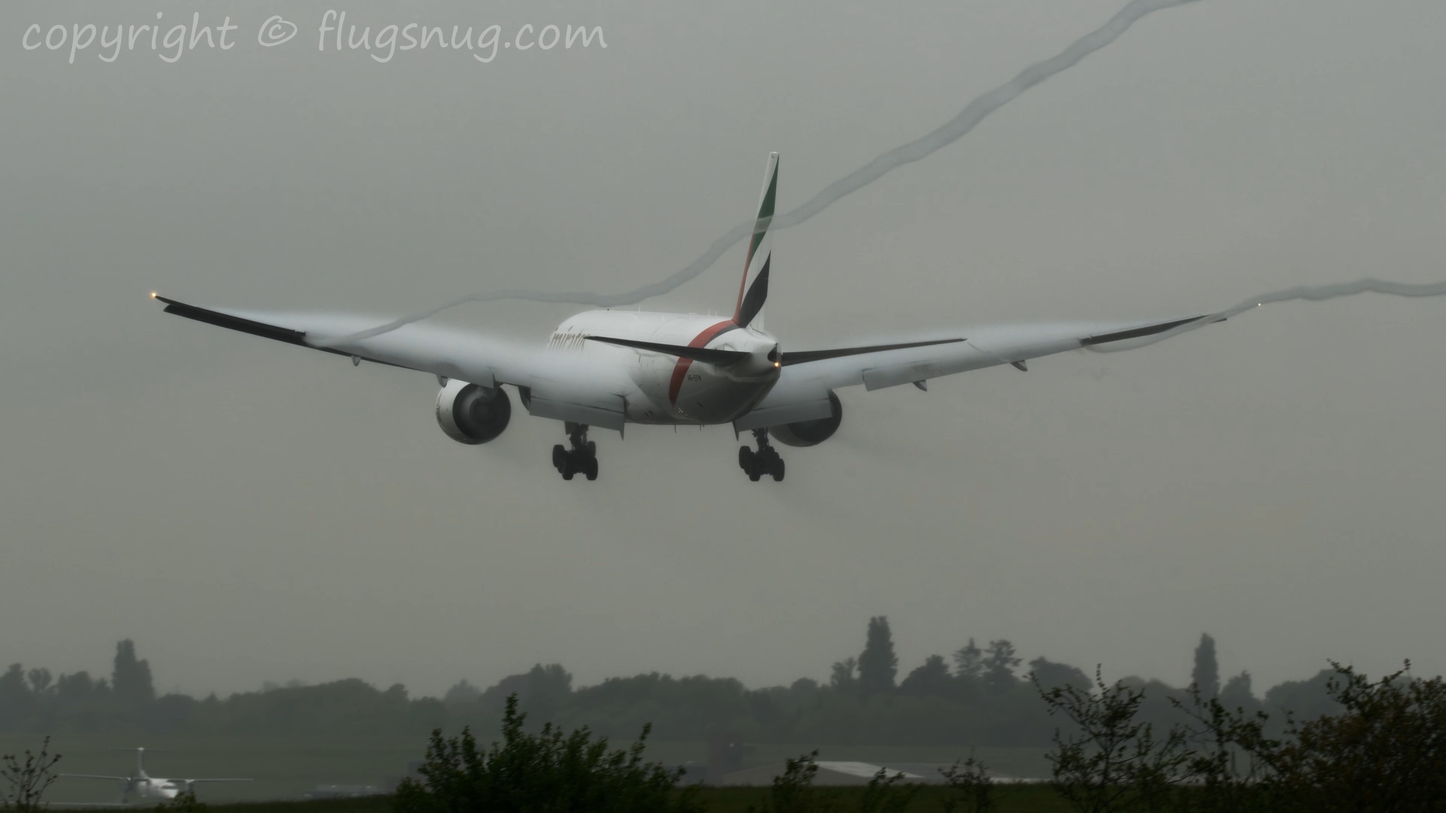airplane: (140, 142, 1231, 499)
